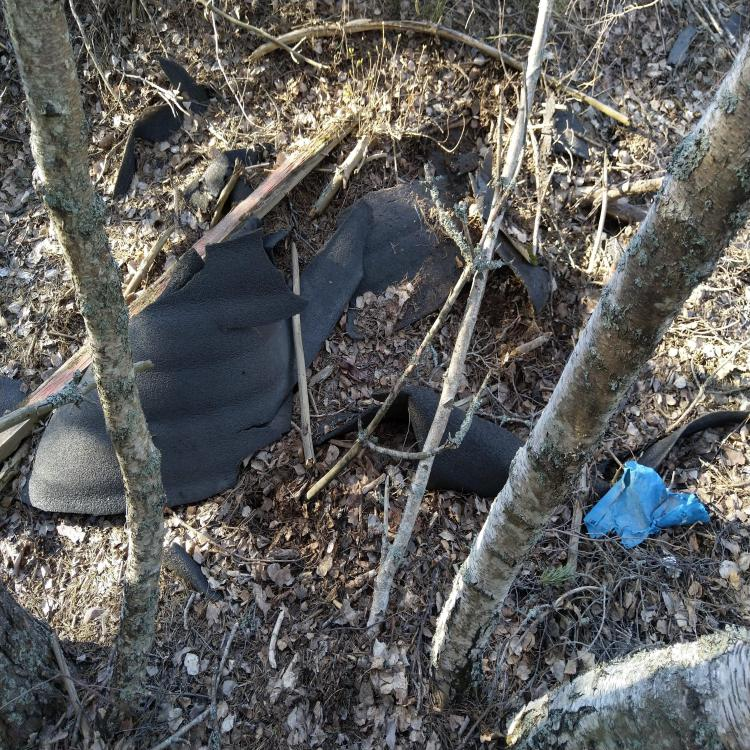Other plastic wrapper: (18, 179, 466, 515), (312, 385, 749, 503), (113, 54, 211, 200), (183, 142, 274, 214), (163, 542, 225, 601), (554, 103, 589, 159), (0, 376, 31, 416)
Plastic film: (584, 460, 710, 548)
Styrofoam piece: (662, 556, 682, 580)
